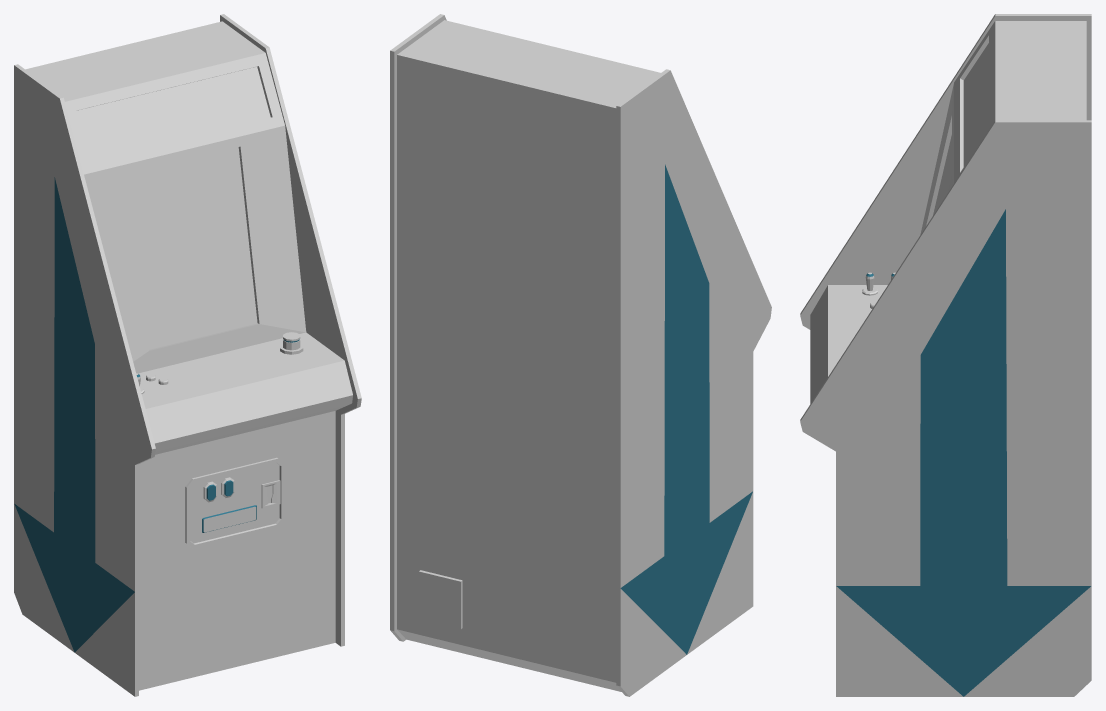
The model's file is 02_arcade_machine_V2.glb.
The picture shows the model from 3 angles, left to right: view 1: azimuth 30°, elevation 25°; view 2: azimuth 150°, elevation 25°; view 3: azimuth 270°, elevation 25°; orthographic projection. The views are drawn at different scales.
Parts seen in each view (by area): view 1: ArcadeMachineV3; view 2: ArcadeMachineV3; view 3: ArcadeMachineV3.
Part boxes in pixels (x1=…): ArcadeMachineV3: x1=14, y1=14, x2=361, y2=696; ArcadeMachineV3: x1=390, y1=14, x2=771, y2=696; ArcadeMachineV3: x1=800, y1=14, x2=1091, y2=696.
Size of the model in its own units: 0.9708 by 2.4 by 1.1.
